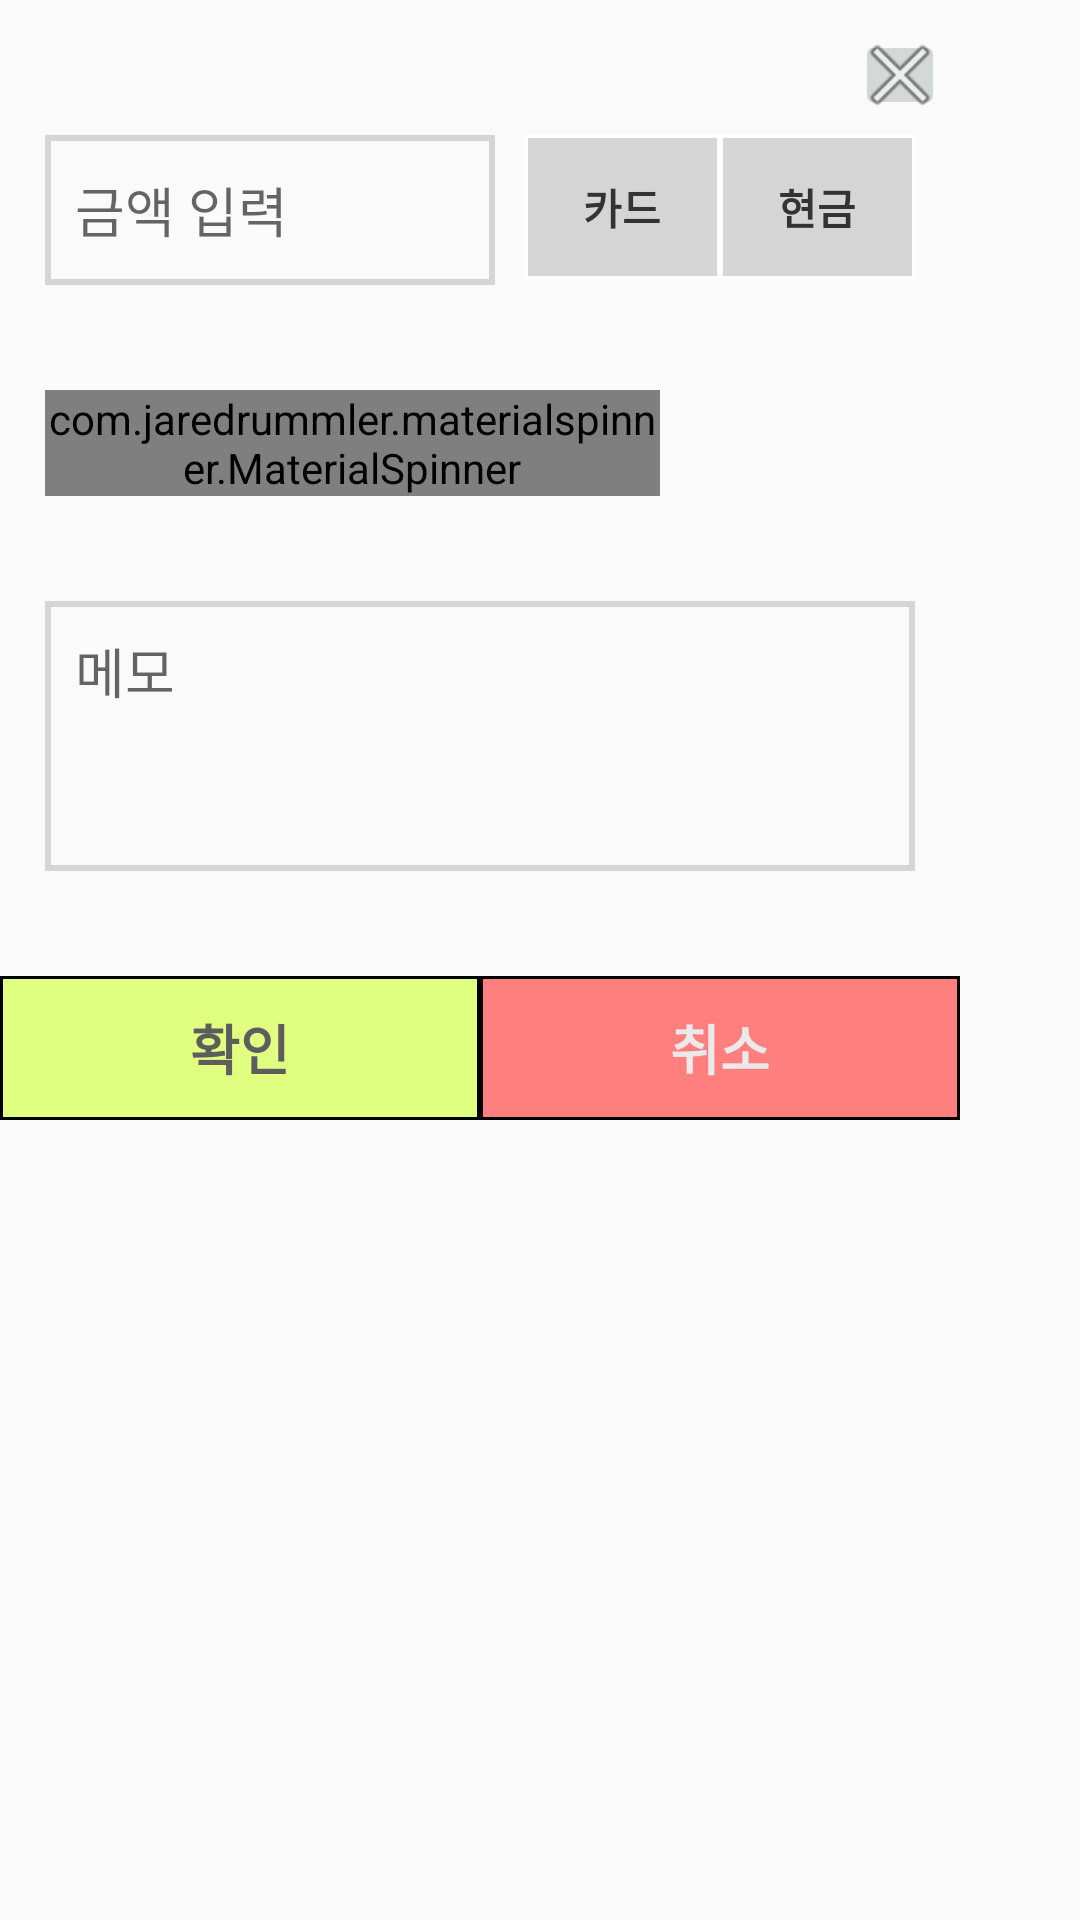

Icons on this 1080 x 1920 Android screen, each with the point to tap as point (x, y):
close clear cancel: point (900, 75)
